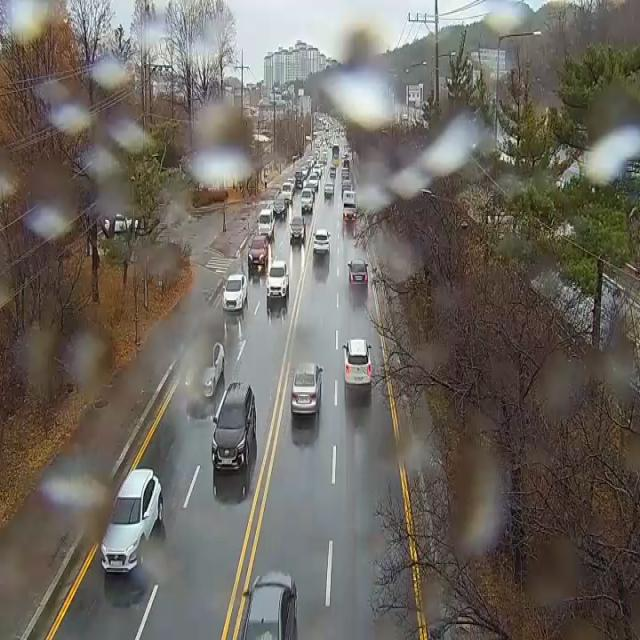Bus: (332, 144, 340, 161)
Car: (101, 469, 163, 574), (211, 382, 257, 473), (240, 572, 297, 640), (185, 341, 225, 398), (291, 363, 323, 414), (342, 339, 372, 385), (222, 274, 247, 310), (104, 215, 139, 238), (266, 262, 288, 298), (248, 236, 269, 265), (348, 260, 368, 286), (313, 229, 331, 255), (290, 217, 306, 240), (273, 201, 287, 219), (324, 181, 334, 198), (305, 184, 315, 201), (342, 180, 351, 198), (310, 175, 318, 192), (295, 172, 303, 188), (287, 178, 295, 192), (329, 167, 335, 178), (334, 157, 339, 166)
Truck: (257, 209, 275, 241), (343, 191, 357, 221), (302, 189, 314, 213), (282, 182, 294, 204)
